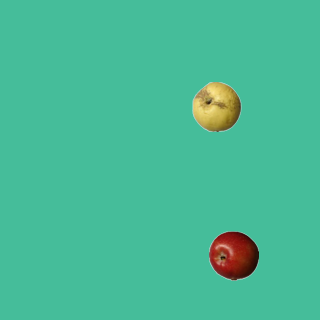Apple Braeburn: (208, 230, 258, 280)
Apple Golden 1: (191, 81, 241, 131)
